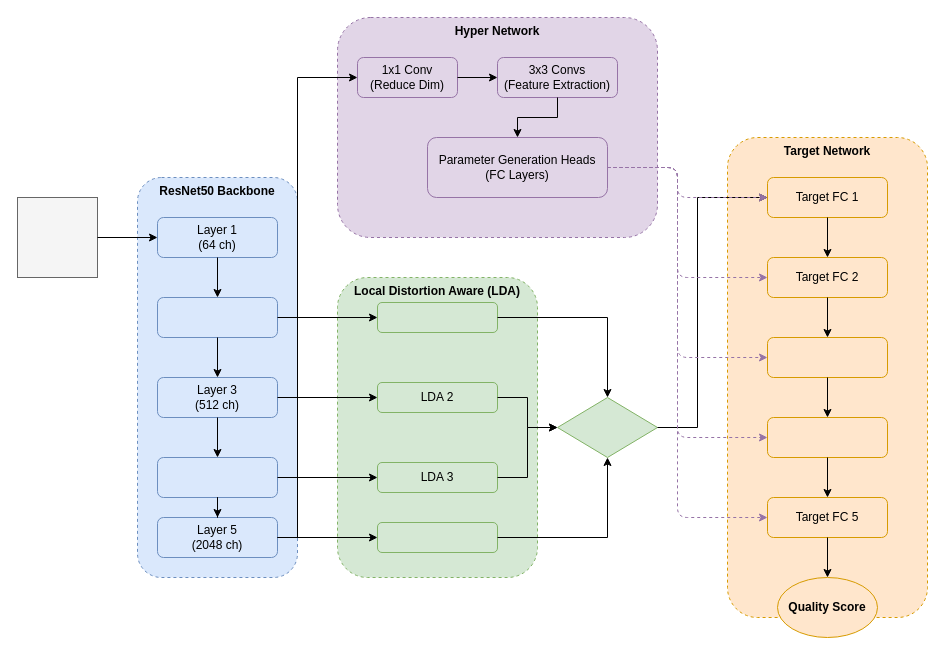
This 945x655 diagram has some shape labels left out. The shapes that lost their labels are listed below. From the top down, each one's centre as x and y in pixels, then its label:
At point (57, 237): "Input Image 224x224x3".
At point (217, 317): "Layer 2 (256 ch)".
At point (437, 317): "LDA 1".
At point (827, 357): "Target FC 3".
At point (607, 427): "Concatenate".
At point (827, 437): "Target FC 4".
At point (217, 477): "Layer 4 (1024 ch)".
At point (437, 537): "LDA 4".
